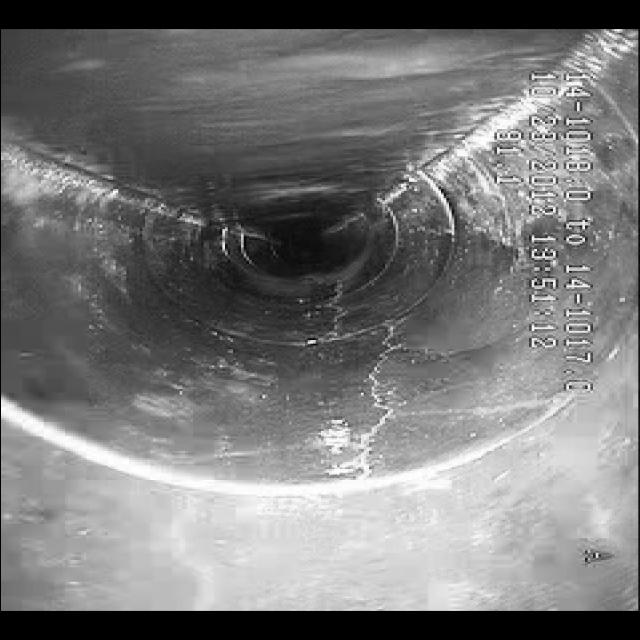Crack: (342, 320, 416, 450)
